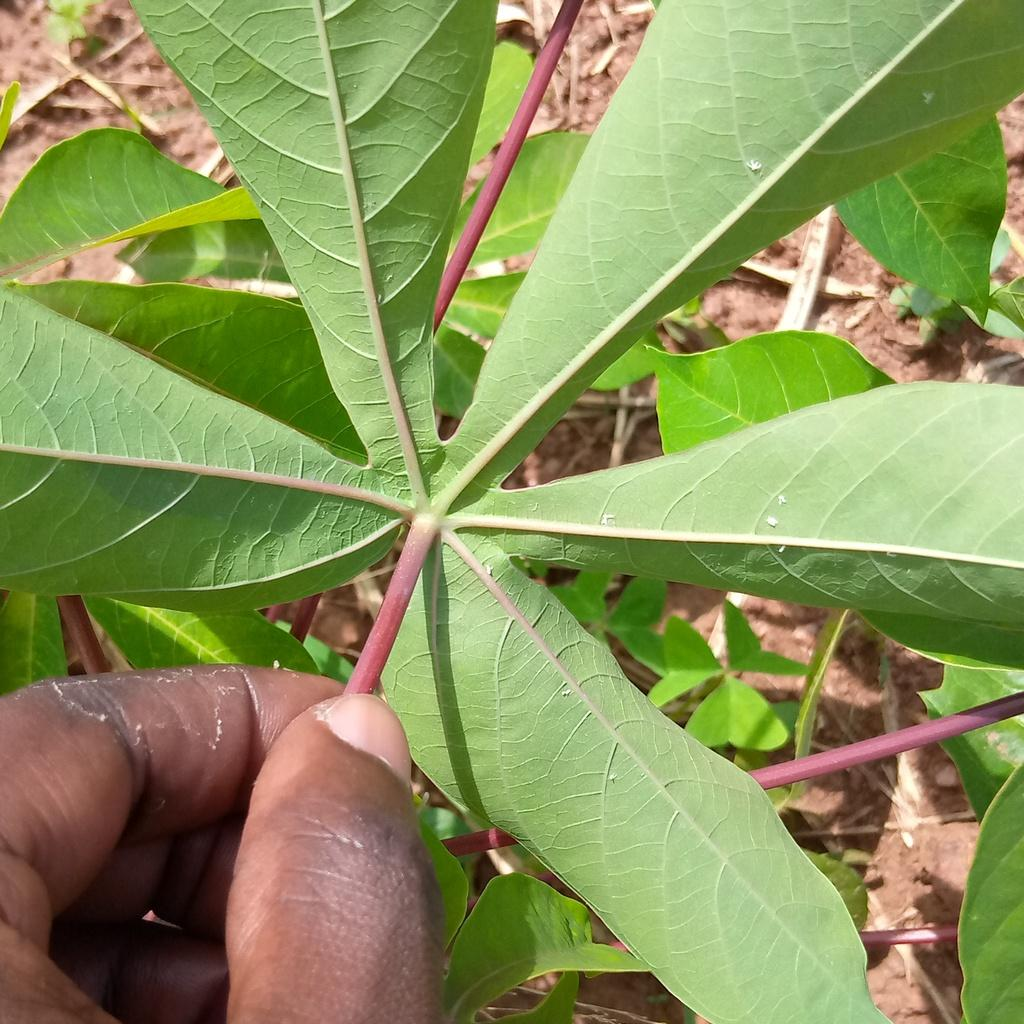adult: (746, 160, 762, 171), (601, 514, 614, 525), (766, 516, 778, 527), (778, 495, 786, 505), (486, 564, 492, 575), (562, 689, 571, 696), (779, 546, 786, 552), (610, 773, 617, 779)
